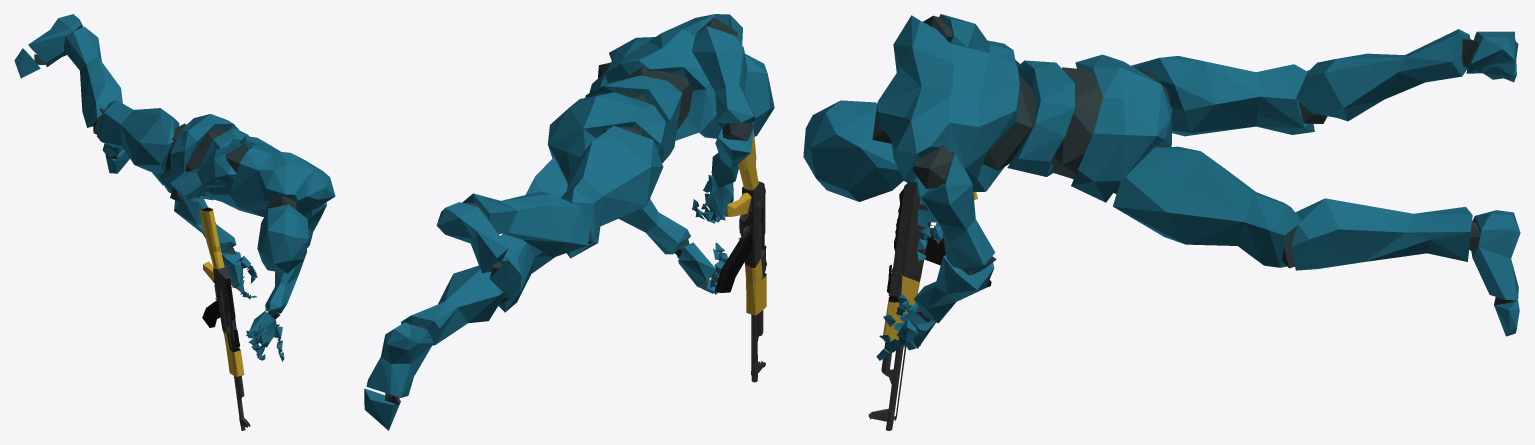
Rendered from EnemyDying_000014.obj.
The picture shows the model from 3 angles, left to right: view 1: azimuth 30°, elevation 25°; view 2: azimuth 150°, elevation 25°; view 3: azimuth 270°, elevation 25°; orthographic projection. The views are drawn at different scales.
Visible parts, largest first — view 1: Alpha_Surface, AK-47_Cube, Alpha_Joints; view 2: Alpha_Surface, AK-47_Cube, Alpha_Joints; view 3: Alpha_Surface, Alpha_Joints, AK-47_Cube.
Boxes of the visible parts, x1,y1,x2,y2 form: Alpha_Surface: [14, 14, 335, 361]; AK-47_Cube: [200, 207, 250, 430]; Alpha_Joints: [34, 25, 296, 360]; Alpha_Surface: [364, 14, 774, 430]; AK-47_Cube: [714, 129, 766, 382]; Alpha_Joints: [385, 17, 754, 405]; Alpha_Surface: [803, 14, 1520, 360]; Alpha_Joints: [872, 15, 1515, 350]; AK-47_Cube: [868, 183, 991, 430].
Size of the model in its own units: 114 by 214 by 326.
